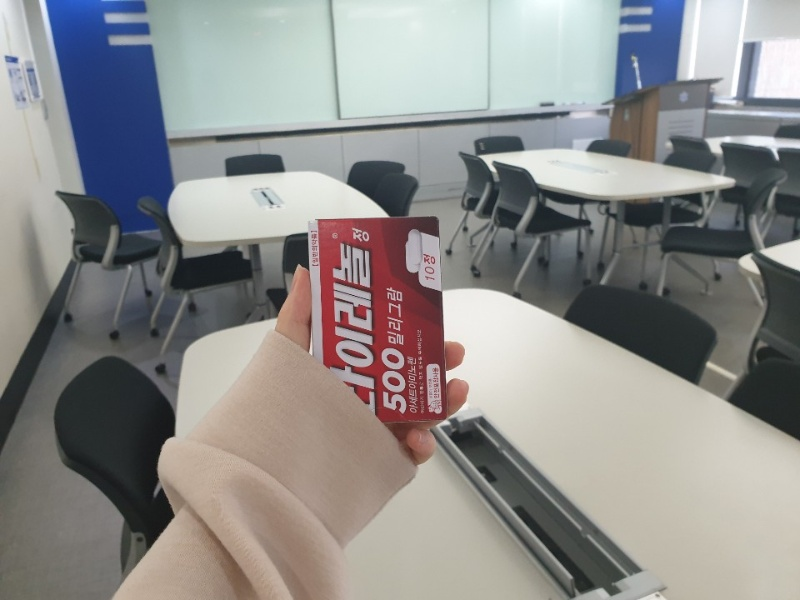tylenol: (305, 216, 444, 422)
